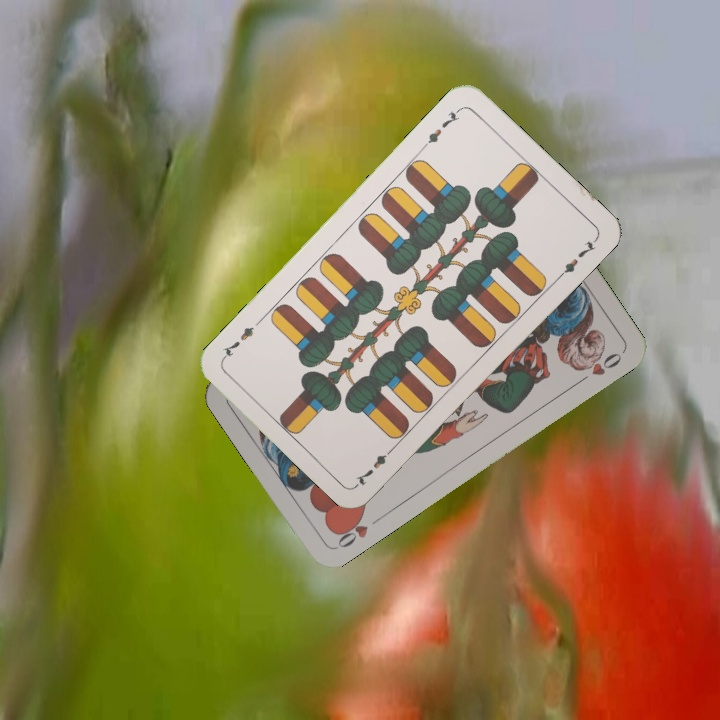E7: (418, 104, 464, 151), (351, 442, 398, 488)
HO: (330, 509, 371, 551)
